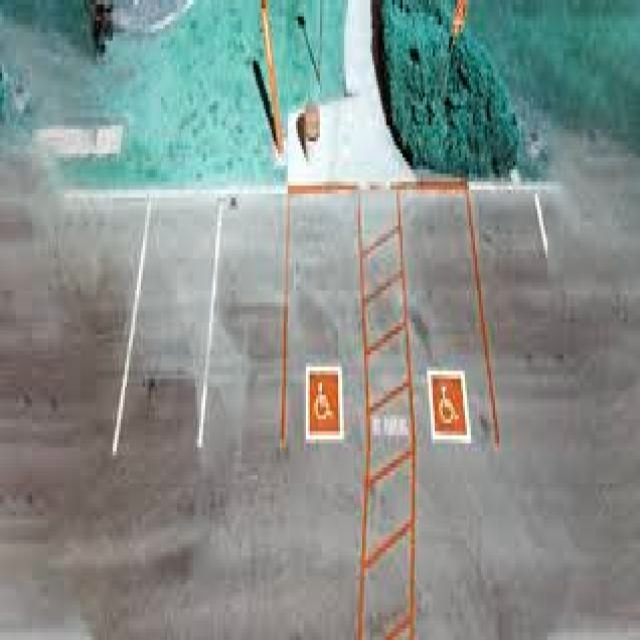ISA: (308, 369, 338, 435), (433, 372, 463, 435)
